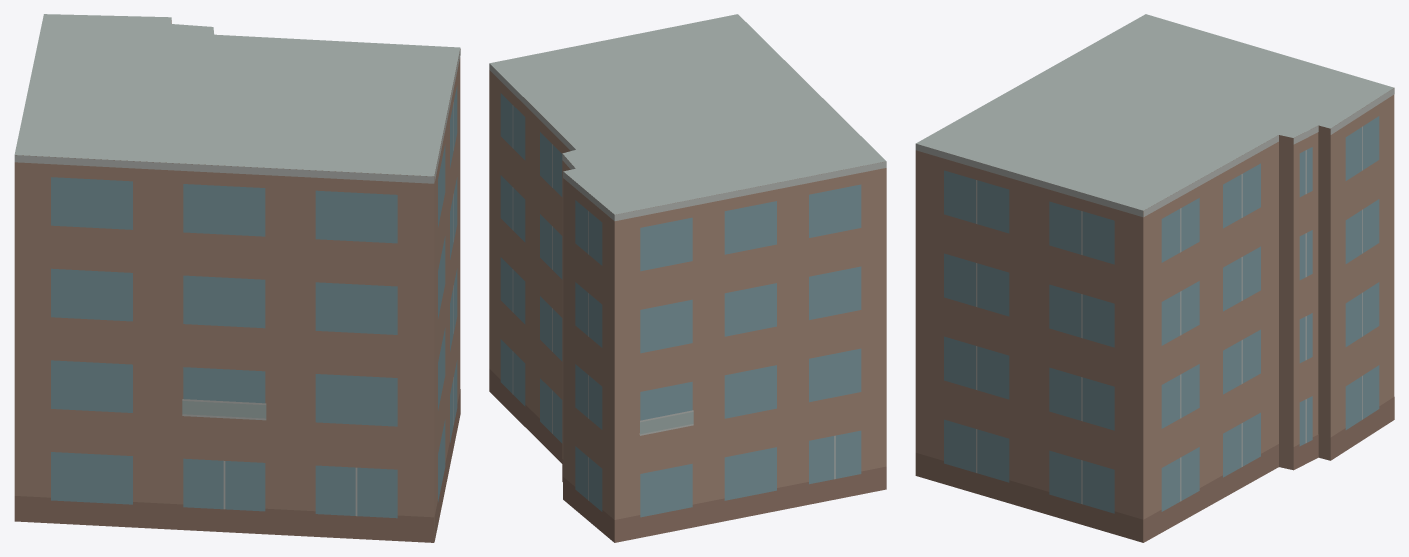
The model's file is survey-upis-32897747.glb.
The picture shows the model from 3 angles, left to right: view 1: azimuth 30°, elevation 25°; view 2: azimuth 150°, elevation 25°; view 3: azimuth 270°, elevation 25°; orthographic projection. The views are drawn at different scales.
Parts seen in each view (by area): view 1: survey-upis-32897747.tmp; view 2: survey-upis-32897747.tmp; view 3: survey-upis-32897747.tmp.
Boxes of the visible parts, x1,y1,x2,y2 form: survey-upis-32897747.tmp: (14,14,460,542); survey-upis-32897747.tmp: (489,14,886,542); survey-upis-32897747.tmp: (915,14,1394,542).
Bounding box in the file's own units: 15.5 × 12.2 × 15.95.
